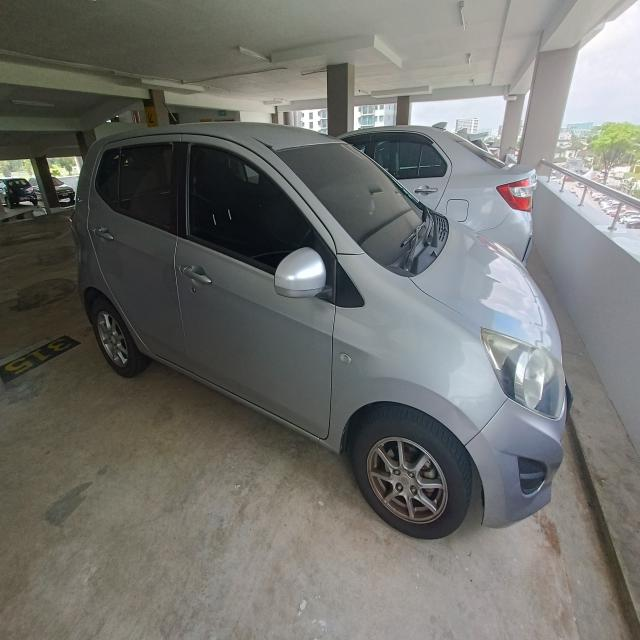PeroduaAxia: (70, 120, 572, 540)
